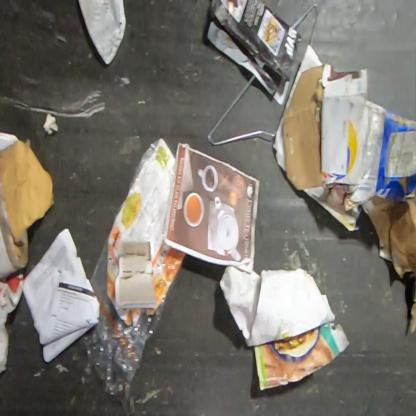cardboard: (282, 63, 368, 192), (272, 44, 324, 172), (0, 136, 56, 243), (343, 99, 386, 214), (374, 108, 415, 200), (0, 194, 29, 281), (303, 190, 361, 232)
metal: (207, 74, 277, 146), (291, 3, 320, 48)
soft_plastic: (80, 137, 187, 411), (78, 0, 127, 66)
